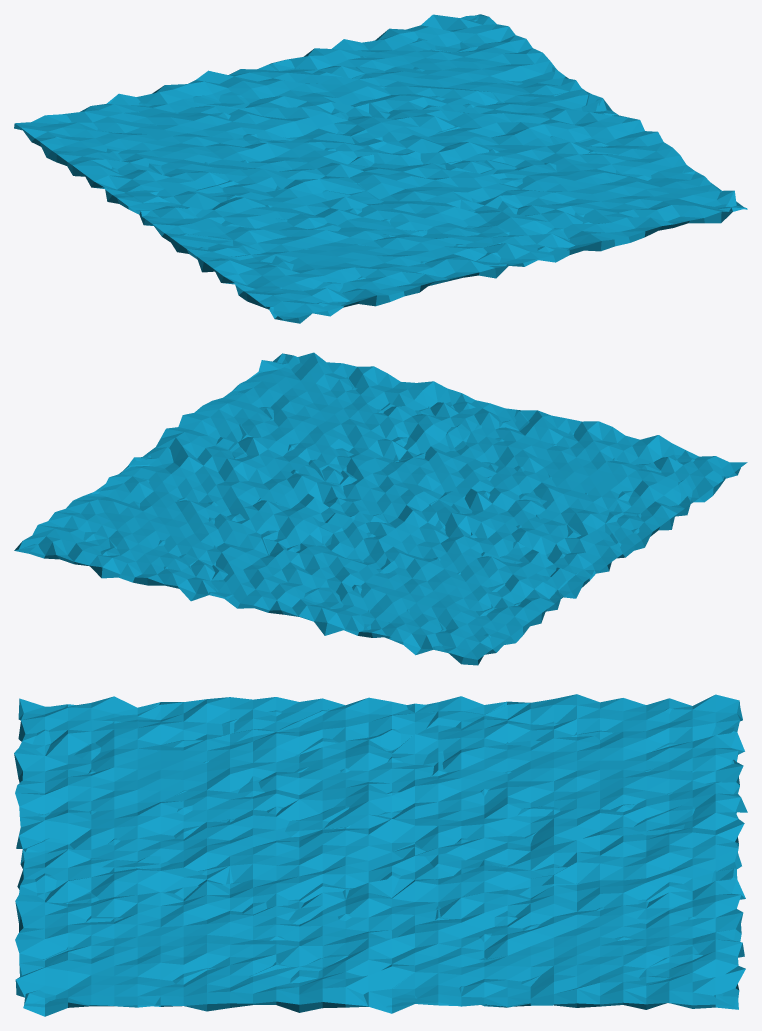
File: water-3d.fbx
3 renders of one model, top to bottom at view 1: azimuth 30°, elevation 25°; view 2: azimuth 150°, elevation 25°; view 3: azimuth 270°, elevation 25°, orthographic. The views are drawn at different scales.
Parts seen in each view (by area): view 1: 水体; view 2: 水体; view 3: 水体.
Part boxes in pixels (x1,y1,x2,y2): 水体: (14,14,747,323); 水体: (14,352,747,665); 水体: (14,694,747,1016).
Size of the model in its own units: 13453 by 535 by 13530.
